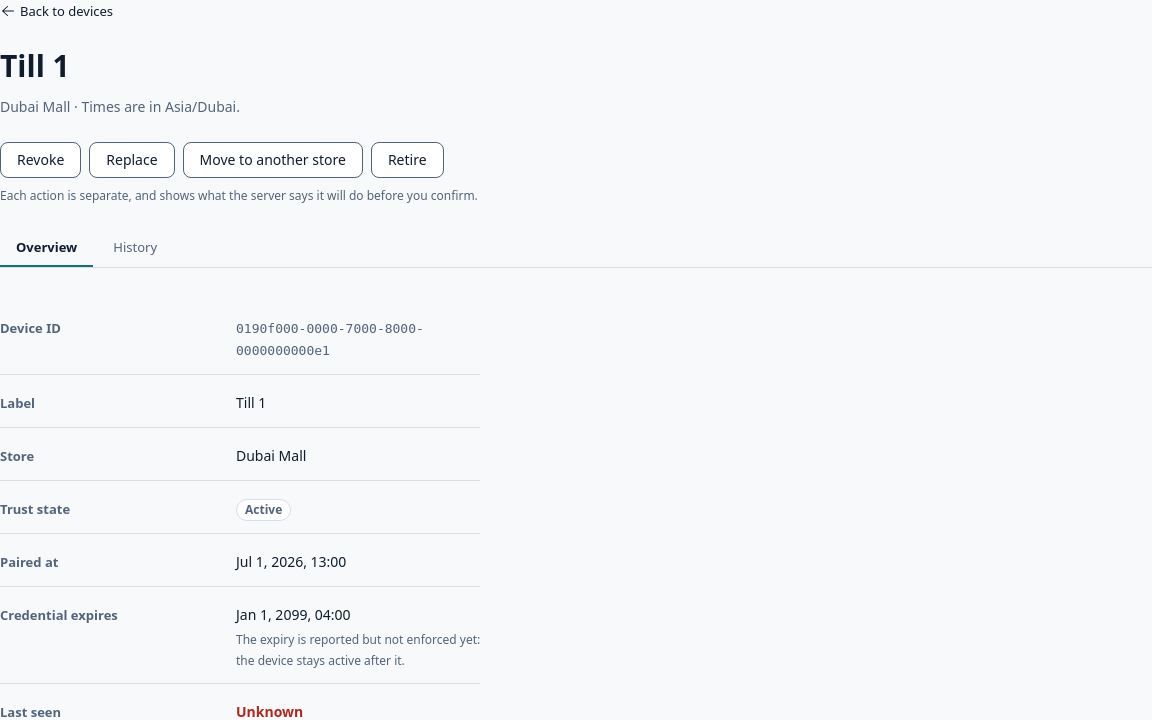
it: Revoke (RT-372) › `other` needs a note before the impact is asked for
Expected: the heading "Till 1" is shown, [0,45,70,86]
Click the button "Revoke" at (41, 160), box [0,142,81,178]
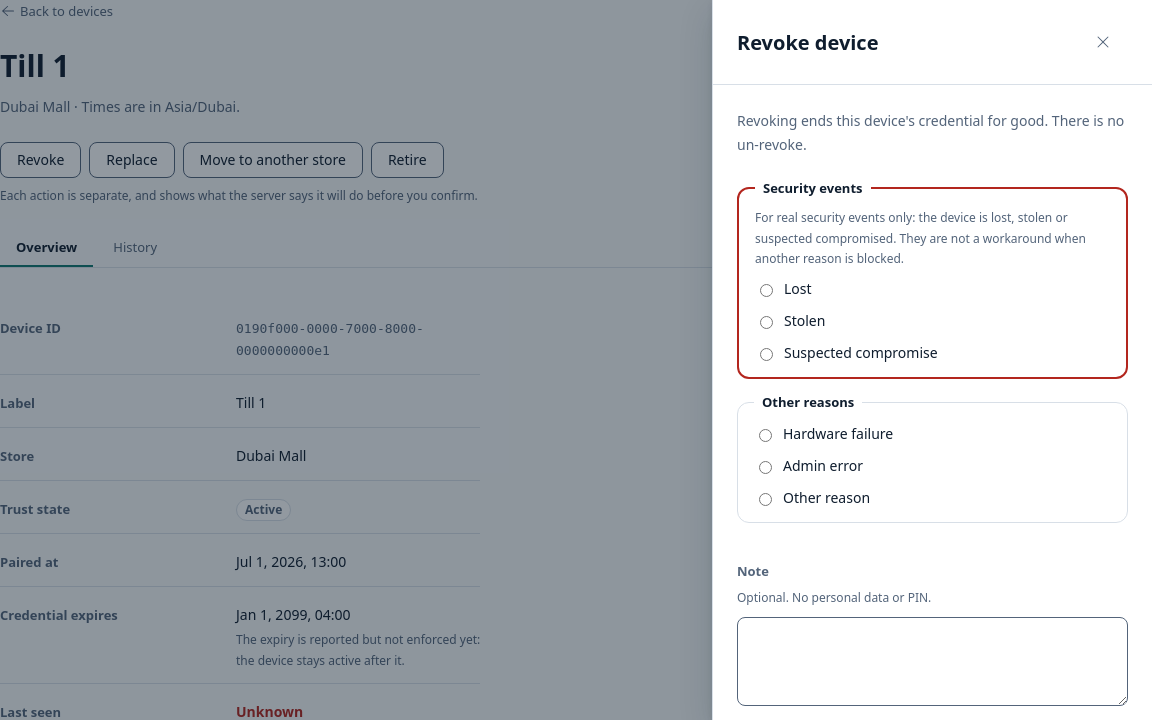
Click the radio button labelled "Other reason" at (766, 499), box [759,493,772,506]
(page scrolled)
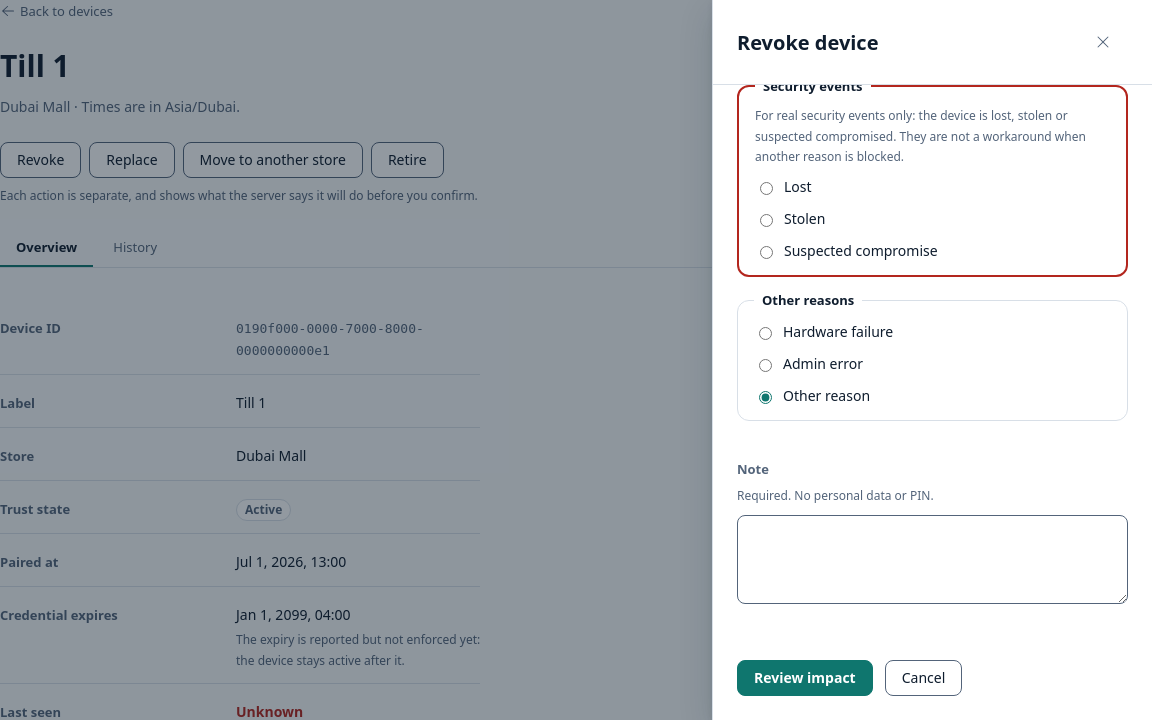
Click the button "Review impact" at (805, 678), box [737,660,873,696]
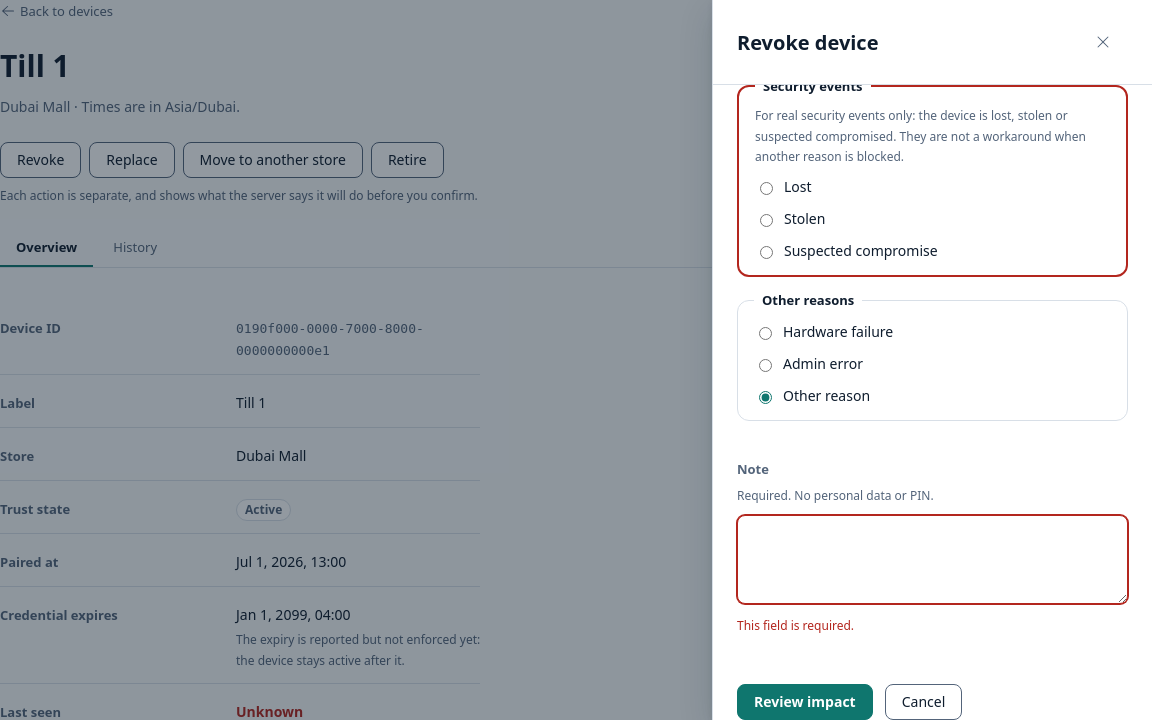
Expected: the text "This field is required." is shown, [737,617,854,634]
